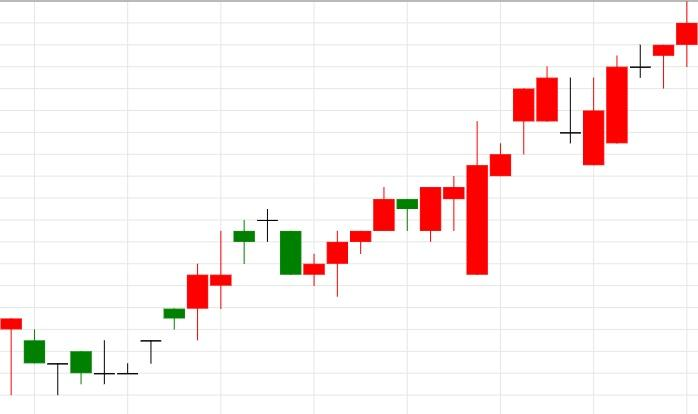three_white_soldiers_rise: (256, 208, 372, 298)
